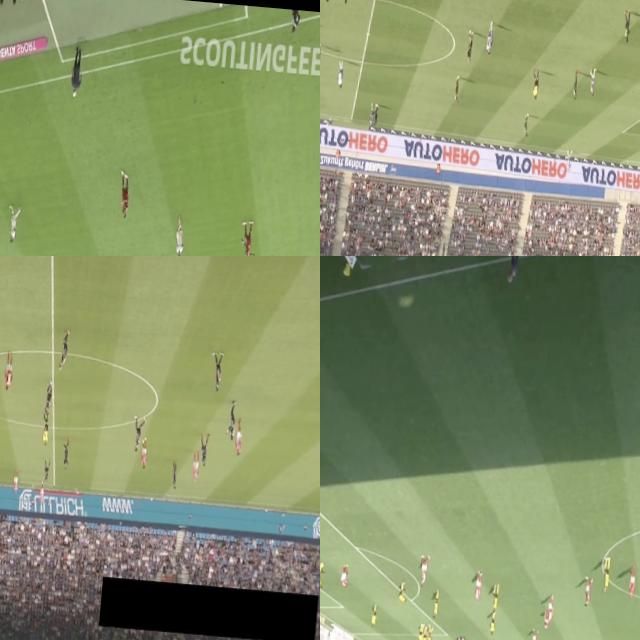ball: (455, 637, 460, 640)
player: (118, 175, 134, 220), (210, 350, 224, 396), (624, 564, 640, 602), (4, 203, 18, 246), (0, 352, 14, 395), (171, 217, 186, 256), (237, 218, 252, 256), (600, 554, 613, 597), (42, 381, 54, 422), (232, 421, 244, 460), (620, 10, 632, 48), (582, 572, 594, 610), (226, 405, 238, 442), (418, 554, 431, 588), (60, 438, 72, 473), (488, 582, 501, 614), (60, 330, 70, 371), (168, 461, 180, 494), (430, 590, 441, 624), (199, 435, 210, 468), (472, 572, 483, 604), (36, 478, 47, 509), (588, 65, 598, 99), (132, 418, 142, 452), (190, 452, 201, 482), (335, 56, 344, 92), (395, 580, 408, 604), (450, 76, 460, 106), (10, 466, 20, 495), (336, 566, 348, 590), (546, 594, 556, 622), (366, 101, 375, 132), (140, 439, 150, 466), (41, 460, 51, 486), (487, 610, 497, 636), (370, 600, 379, 628), (466, 31, 474, 61), (486, 23, 494, 52), (522, 117, 532, 139), (542, 606, 550, 632), (564, 148, 572, 172), (572, 72, 578, 100), (320, 561, 325, 590), (373, 105, 379, 126), (530, 628, 538, 640), (417, 625, 423, 640), (421, 628, 427, 640), (426, 629, 432, 640), (320, 46, 322, 78), (456, 636, 465, 640)
